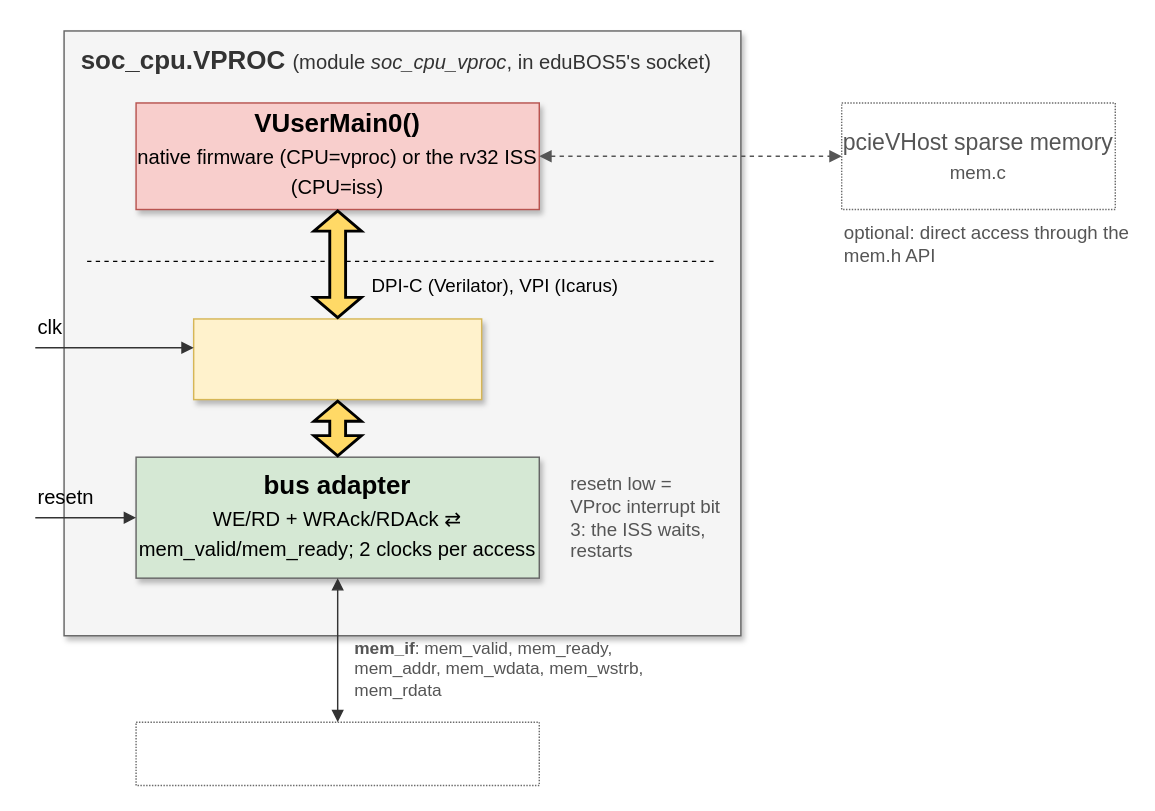
This 1155x811 diagram has some shape labels left out. The centre of each missing label's shape, as x and y in pixels:
"soc_top: RAM, CSR" belongs at pixel 337 753.
"VProc , node 0" belongs at pixel 338 361.
